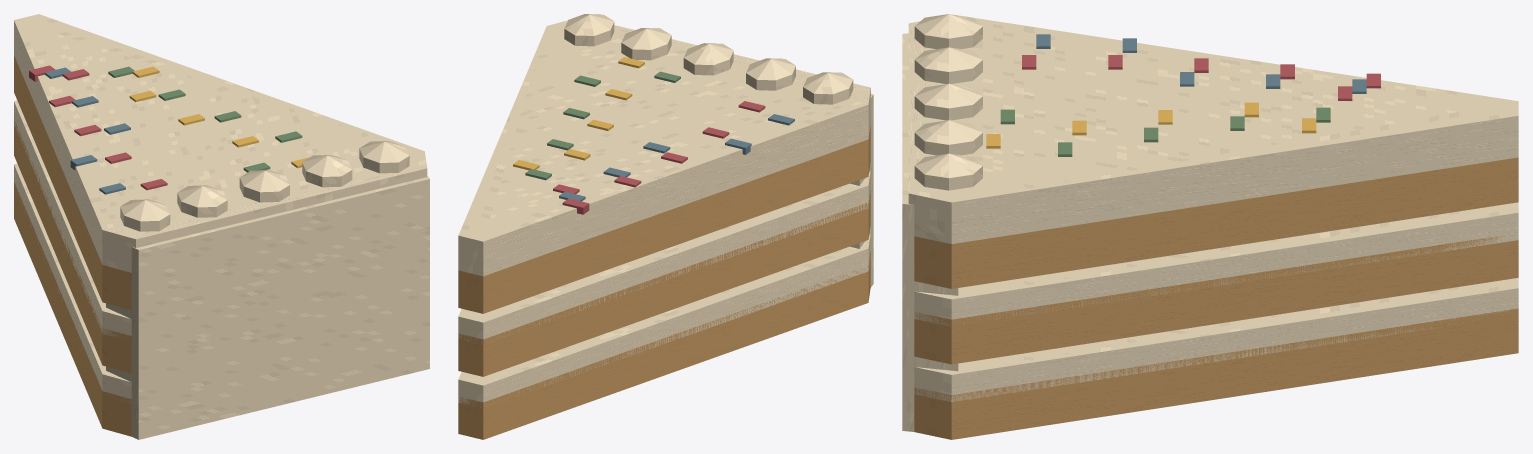
The model's file is jihelucake.glb.
3 renders of one model, left to right at view 1: azimuth 30°, elevation 25°; view 2: azimuth 150°, elevation 25°; view 3: azimuth 270°, elevation 25°, orthographic. The views are drawn at different scales.
Visible parts, largest first — view 1: block_outer buttercream arc, block_iced top, block_sponge layer (×3), block_white buttercream rosette (×5), block_frosting layer (×2); view 2: block_iced top, block_sponge layer (×3), block_frosting layer (×2), block_white buttercream rosette (×5), block_outer buttercream arc; view 3: block_sponge layer (×3), block_iced top, block_frosting layer (×2), block_white buttercream rosette (×5), block_outer buttercream arc.
Part boxes in pixels (<box>): block_outer buttercream arc: <box>106,176,429,439</box>; block_iced top: <box>14,14,427,272</box>; block_sponge layer (×3): <box>14,55,131,436</box>; block_white buttercream rosette (×5): <box>120,141,409,231</box>; block_frosting layer (×2): <box>14,100,131,403</box>; block_iced top: <box>458,20,870,276</box>; block_sponge layer (×3): <box>458,125,870,439</box>; block_frosting layer (×2): <box>458,171,870,407</box>; block_white buttercream rosette (×5): <box>564,14,853,104</box>; block_outer buttercream arc: <box>850,94,873,287</box>; block_sponge layer (×3): <box>914,157,1518,439</box>; block_iced top: <box>908,18,1518,243</box>; block_frosting layer (×2): <box>914,202,1518,401</box>; block_white buttercream rosette (×5): <box>914,14,982,190</box>; block_outer buttercream arc: <box>902,33,958,431</box>.
Size of the model in its own units: 0.0746 by 0.0485 by 0.1033.
Materials: 1 (1 with a texture image).
